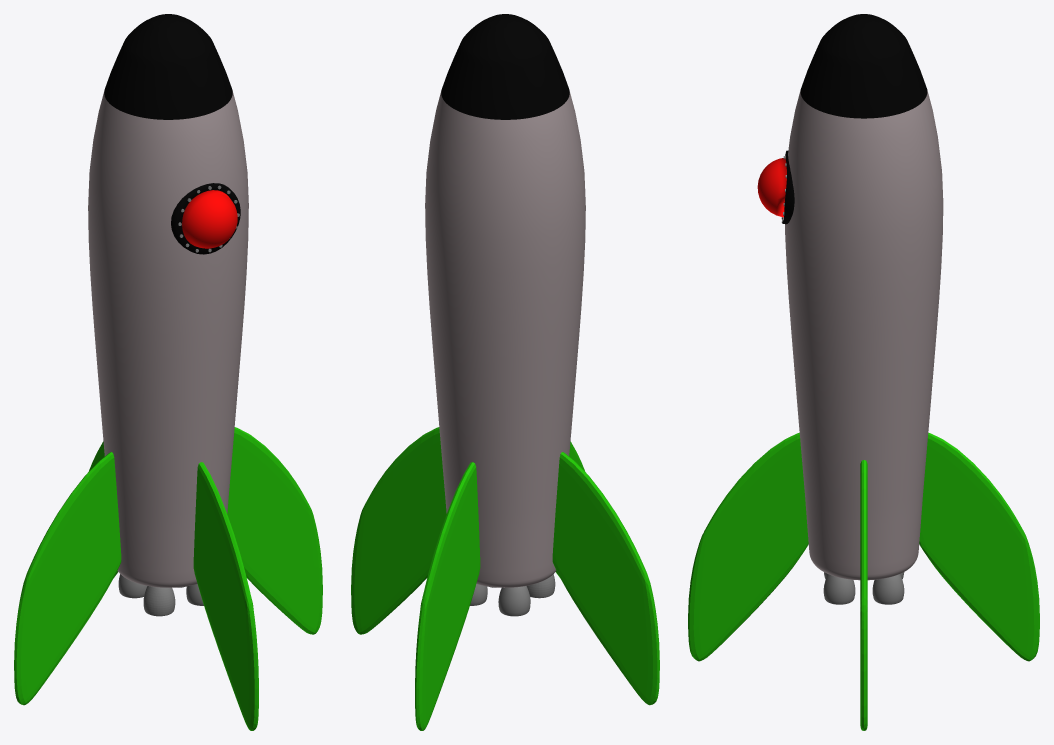
File: rocket_model3.fbx
The picture shows the model from 3 angles, left to right: view 1: azimuth 30°, elevation 25°; view 2: azimuth 150°, elevation 25°; view 3: azimuth 270°, elevation 25°; orthographic projection.
Visible parts, largest first — view 1: Cylinder, Cube.002, Cube, Cube.001, Sphere, Cylinder.001; view 2: Cylinder, Cube.002, Cube, Cube.003, Cylinder.004; view 3: Cylinder, Cube.001, Cube.003, Cube, Sphere, Cylinder.002, Cylinder.003.
Part boxes in pixels (box(x1,y1,x2,y2)): Cylinder: box(88, 14, 248, 587); Cube.002: box(14, 452, 121, 705); Cube: box(227, 427, 322, 634); Cube.001: box(193, 462, 258, 730); Sphere: box(171, 183, 240, 254); Cylinder.001: box(143, 586, 175, 616); Cylinder: box(425, 14, 585, 587); Cube.002: box(552, 452, 659, 705); Cube: box(351, 427, 446, 634); Cube.003: box(415, 462, 480, 730); Cylinder.004: box(498, 586, 530, 616); Cylinder: box(785, 14, 943, 580); Cube.001: box(688, 432, 808, 661); Cube.003: box(919, 432, 1039, 661); Cube: box(860, 460, 867, 730); Sphere: box(757, 150, 794, 224); Cylinder.002: box(823, 574, 855, 604); Cylinder.003: box(872, 574, 904, 604).
Size of the model in its own units: 554 by 1115 by 554.
